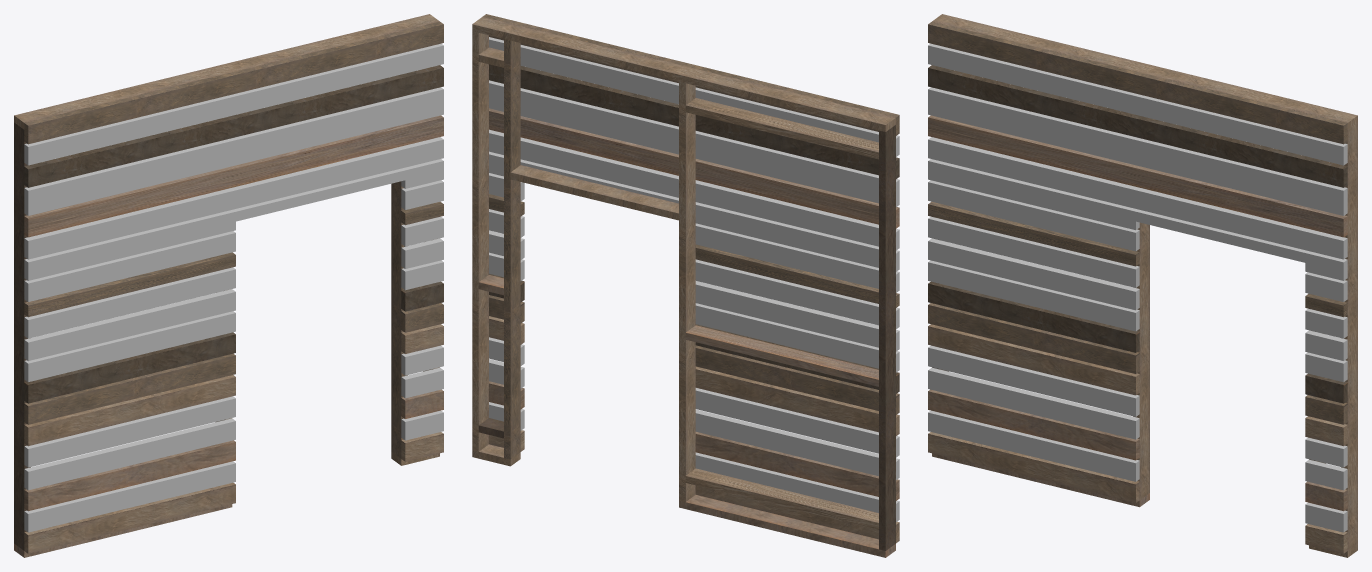
The model's file is WallPeiceDoorwayC.fbx.
3 renders of one model, left to right at view 1: azimuth 30°, elevation 25°; view 2: azimuth 150°, elevation 25°; view 3: azimuth 330°, elevation 25°, orthographic.
Parts seen in each view (by area): view 1: WallPeiceDoorwayC; view 2: WallPeiceDoorwayC; view 3: WallPeiceDoorwayC.
Boxes of the visible parts, box(x1,y1,x2,y2) form: WallPeiceDoorwayC: box(14, 14, 443, 557); WallPeiceDoorwayC: box(472, 14, 899, 557); WallPeiceDoorwayC: box(928, 14, 1357, 557).
Size of the model in its own units: 374 by 374 by 22.
